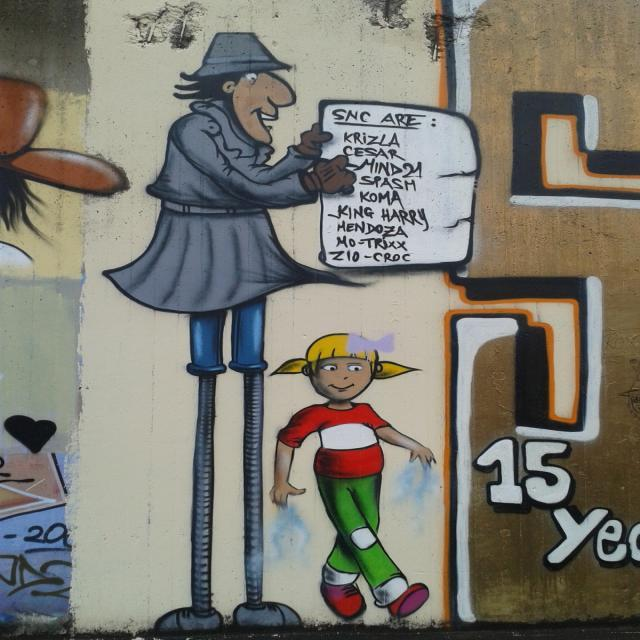-: (100, 30, 476, 630), (442, 274, 604, 443), (0, 76, 132, 262), (474, 434, 640, 569), (506, 87, 640, 209), (0, 414, 72, 601)
